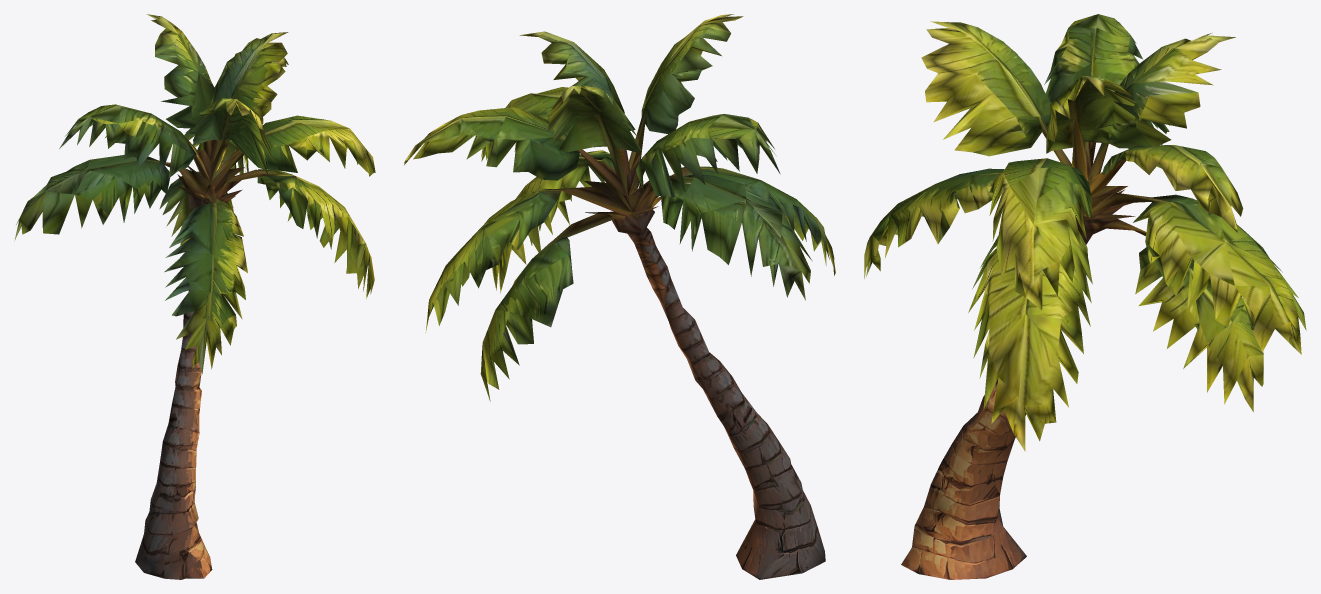
The model's file is palm.glb.
3 renders of one model, left to right at view 1: azimuth 30°, elevation 25°; view 2: azimuth 150°, elevation 25°; view 3: azimuth 270°, elevation 25°, orthographic. The views are drawn at different scales.
Parts seen in each view (by area): view 1: TripoPalm_Mesh; view 2: TripoPalm_Mesh; view 3: TripoPalm_Mesh.
Part boxes in pixels (x1=…): TripoPalm_Mesh: x1=14, y1=14, x2=375, y2=579; TripoPalm_Mesh: x1=404, y1=14, x2=835, y2=579; TripoPalm_Mesh: x1=864, y1=14, x2=1306, y2=579.
Size of the model in its own units: 3.8 by 5.2 by 3.6.
Materials: 1 (1 with a texture image).
